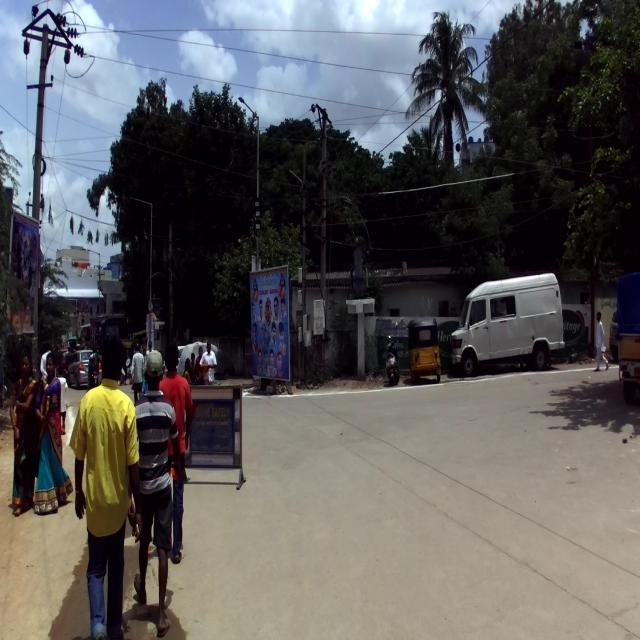Car: (175, 341, 233, 385)
autorickshaw: (409, 319, 441, 386)
mini-bus: (450, 272, 564, 377)
scooter: (385, 334, 400, 384)
